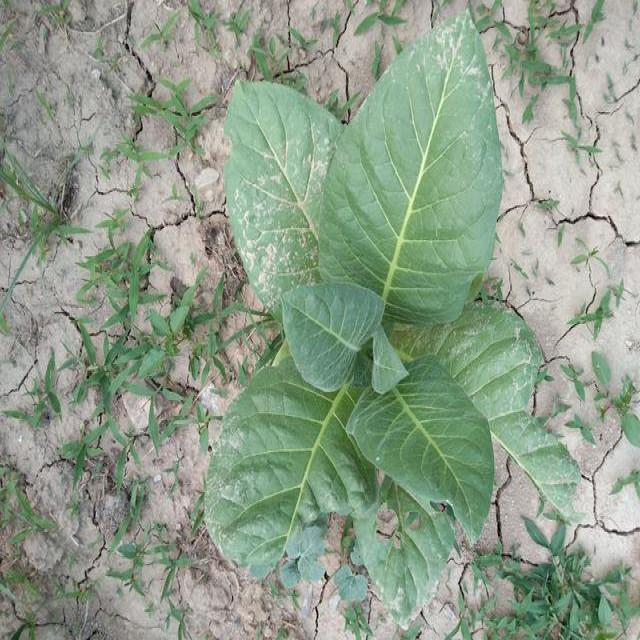crop: (202, 4, 580, 631)
